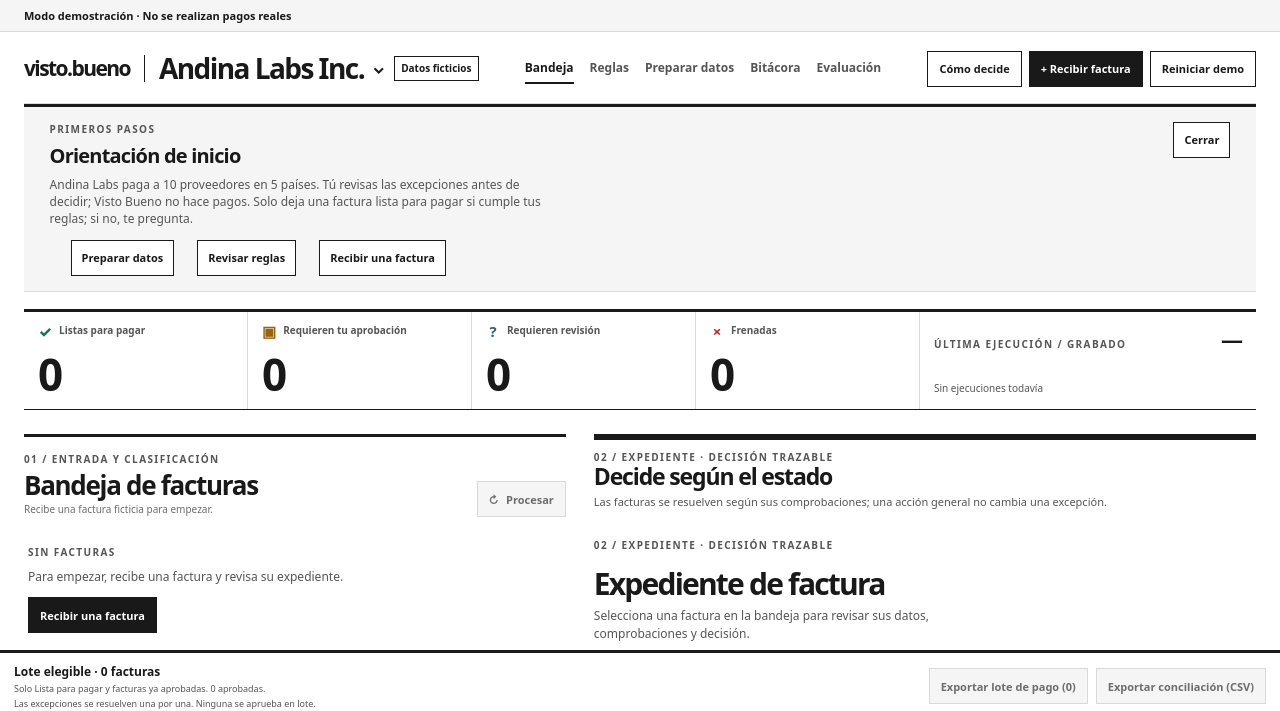
it: App first-run and evaluation integration › renders validated evaluation metrics from the endpoint
Expected: the heading "Andina Labs Inc. ⌄" is shown, x1=159 y1=46 x2=385 y2=90
Click the link "Evaluación": (849, 67) x1=816 y1=59 x2=881 y2=76
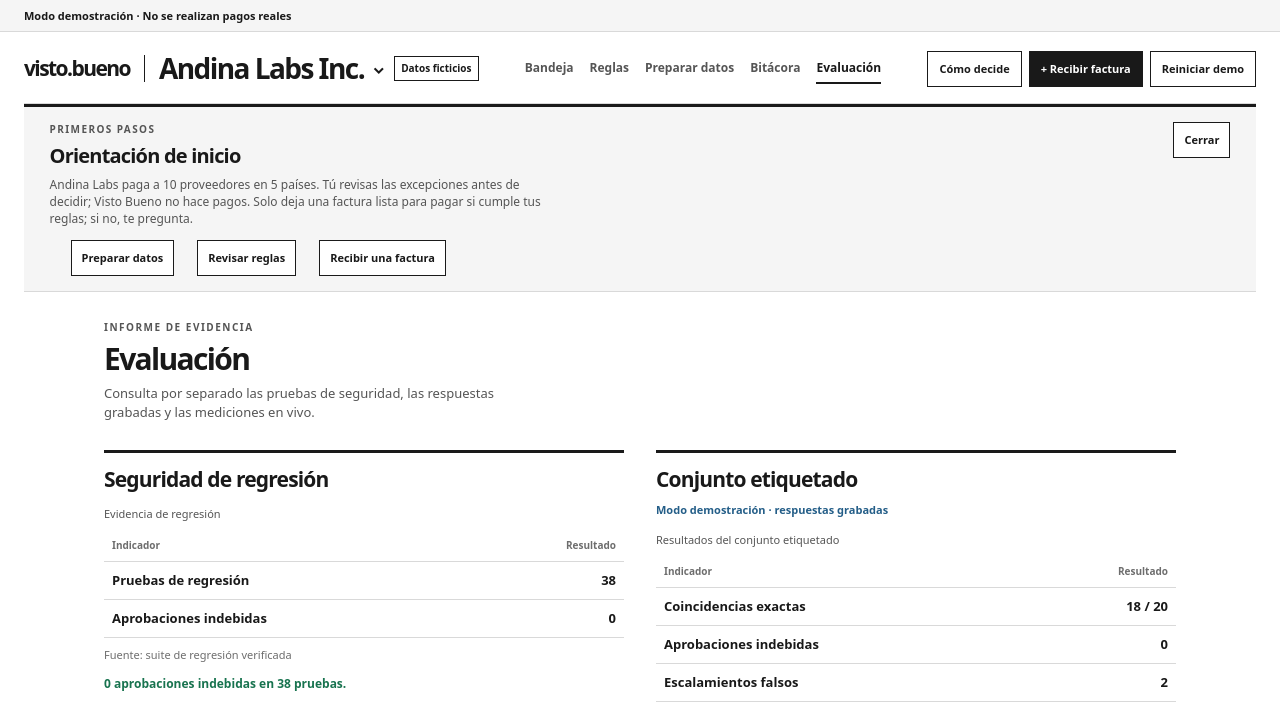
Now the text "18 / 20" is shown, box x1=1110 y1=588 x2=1176 y2=626
Now the text "0 aprobaciones indebidas en 38 pruebas." is shown, box x1=104 y1=675 x2=346 y2=692
